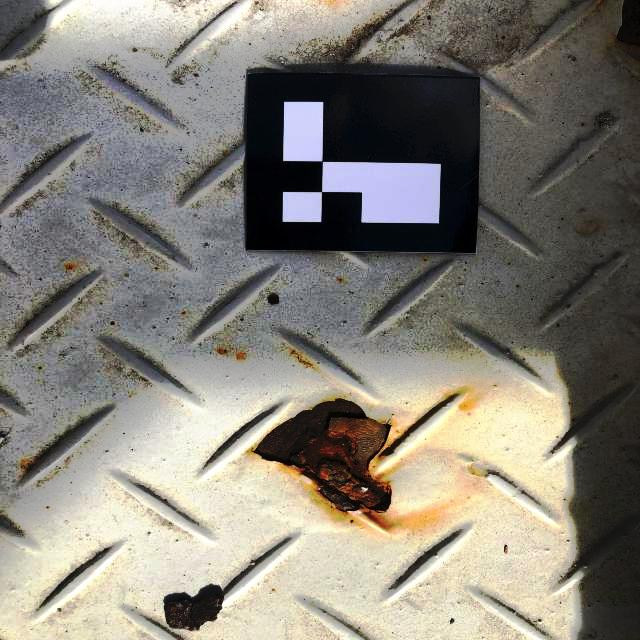Corrosion: (254, 399, 391, 512)
